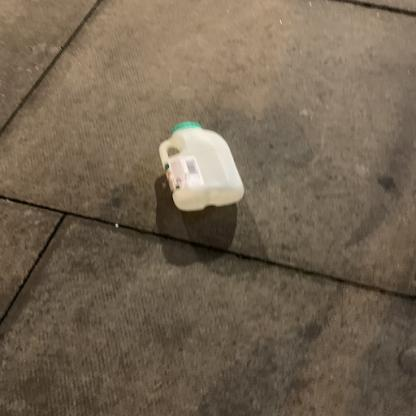trash: (156, 120, 246, 214)
